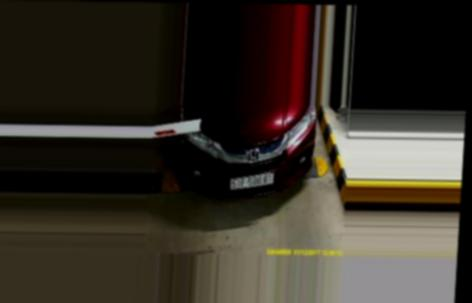License_Plate: (225, 172, 278, 188)
